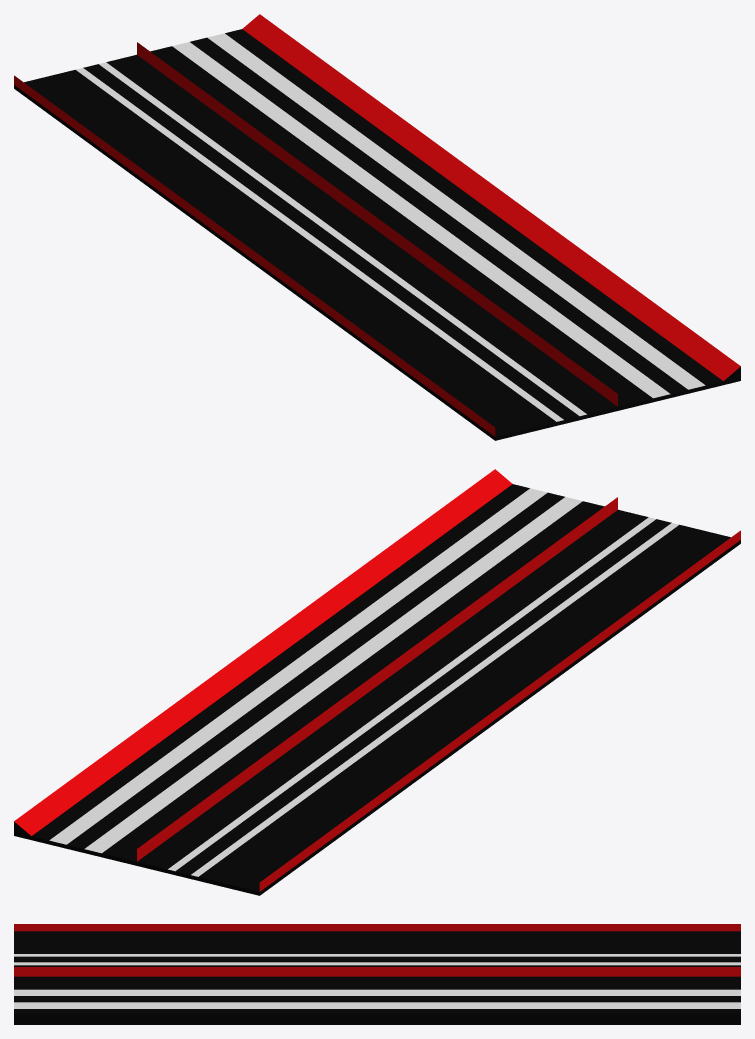
Rendered from santa_maria_river_bridge_1.fbx.
3 views of the same model, one above another, from view 1: azimuth 30°, elevation 25°; view 2: azimuth 150°, elevation 25°; view 3: azimuth 270°, elevation 25° (orthographic). The views are drawn at different scales.
Visible parts, largest first — view 1: Cube; view 2: Cube; view 3: Cube.
Boxes of the visible parts, x1,y1,x2,y2 form: Cube: (14,14,740,440); Cube: (14,469,740,895); Cube: (14,924,740,1024).
Size of the model in its own units: 7.44 by 0.4874 by 25.22.
